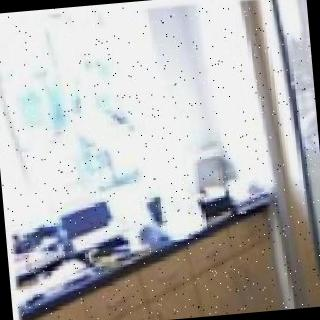smoke: (282, 150, 320, 309)
